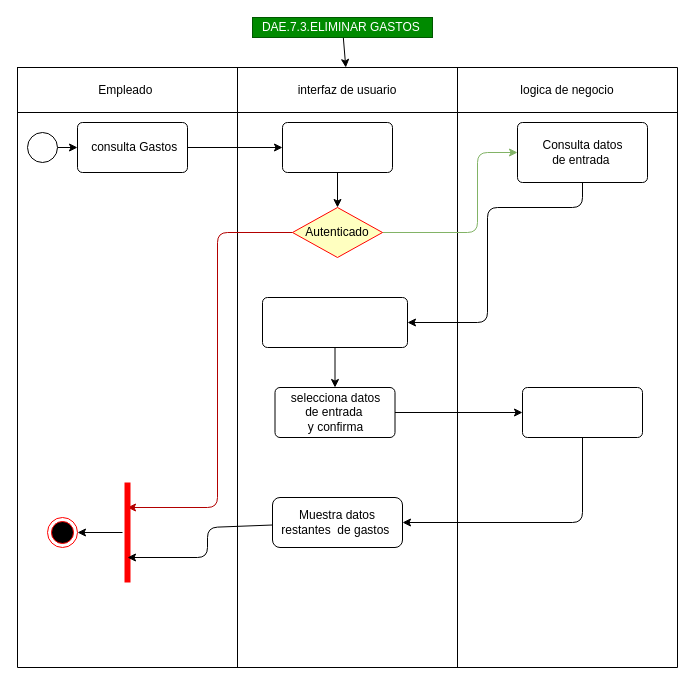
The diagram is 695 pixels wide and 685 high, and some of its shapes have lost their labels. The shapes that lost their labels are listed below. From the top down, each one's box as (x1, y1, x2, y2) in pixels, then its label:
(282, 122, 392, 172): Autentica el usuario de gastos
(262, 296, 408, 348): Muestra datos de entrada
(522, 386, 642, 438): elimina datos de entrada
